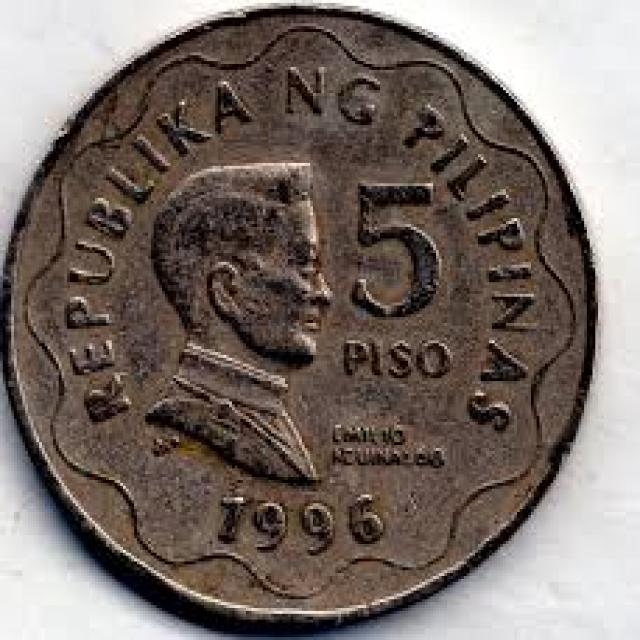5 peso-old: (4, 2, 602, 638)
